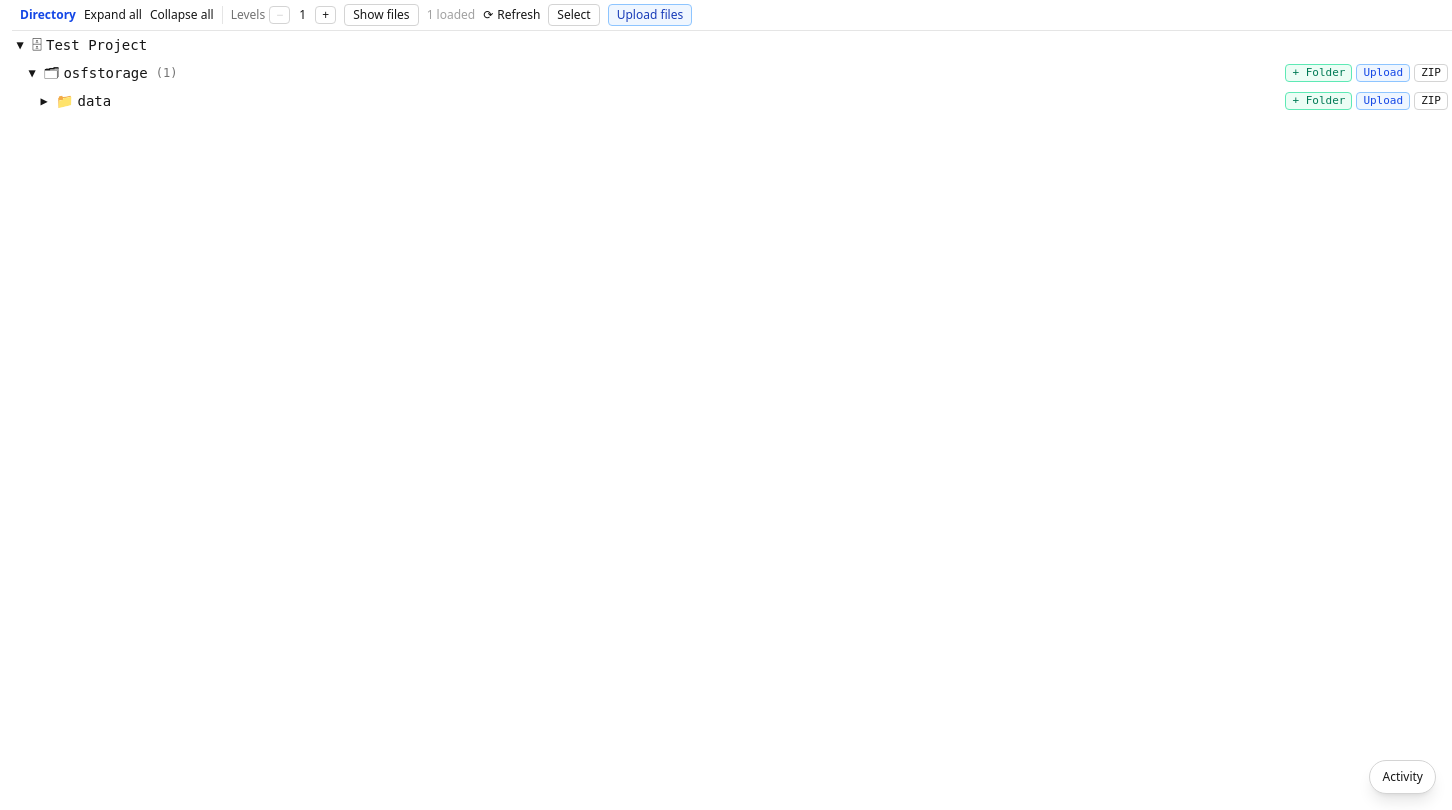
Test: UnifiedTree directory view › Expand all reveals files; Directory hides them again
The width and height of the screenshot is (1452, 810).
Expected: the text "data" is shown, [78,91,111,111]
Click the button "Expand all".
click(113, 15)  # box [84,7,142,23]
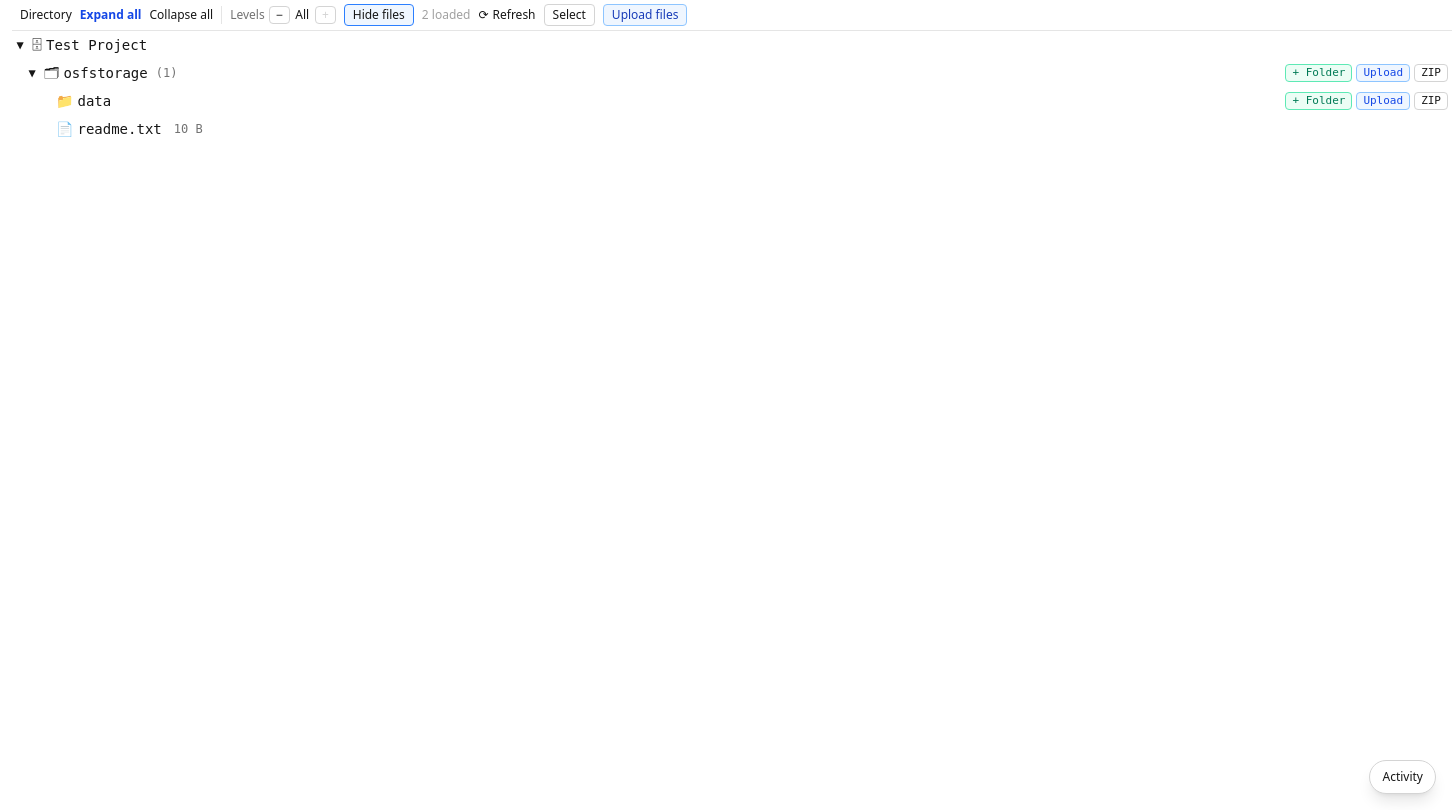
Now the text "readme.txt" is shown, box [78,119,162,139]
Click the button "Directory".
click(46, 15)  # box [20,7,72,23]
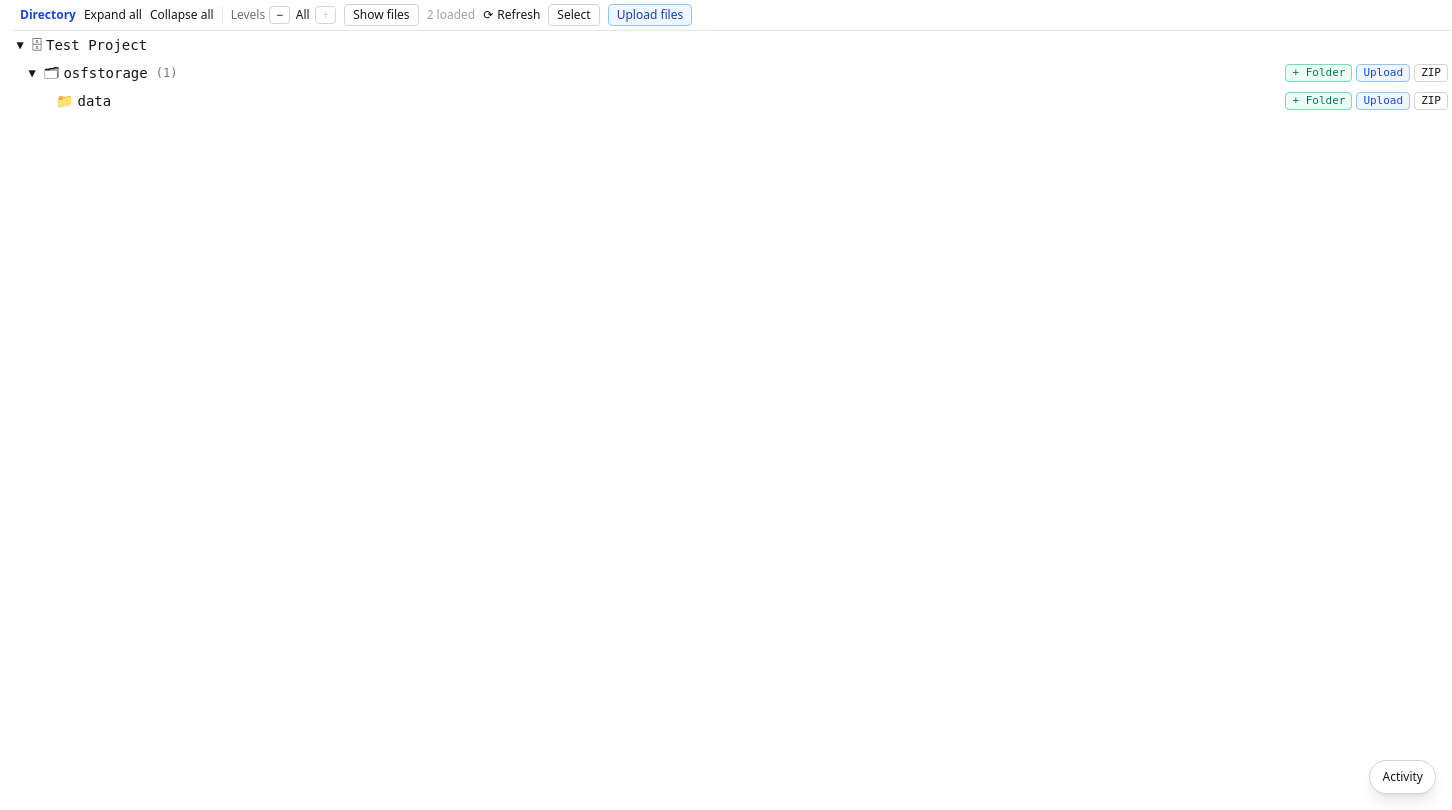
Expected: the text "data" is shown, [78,91,111,111]
Now the link "readme.txt" is gone
